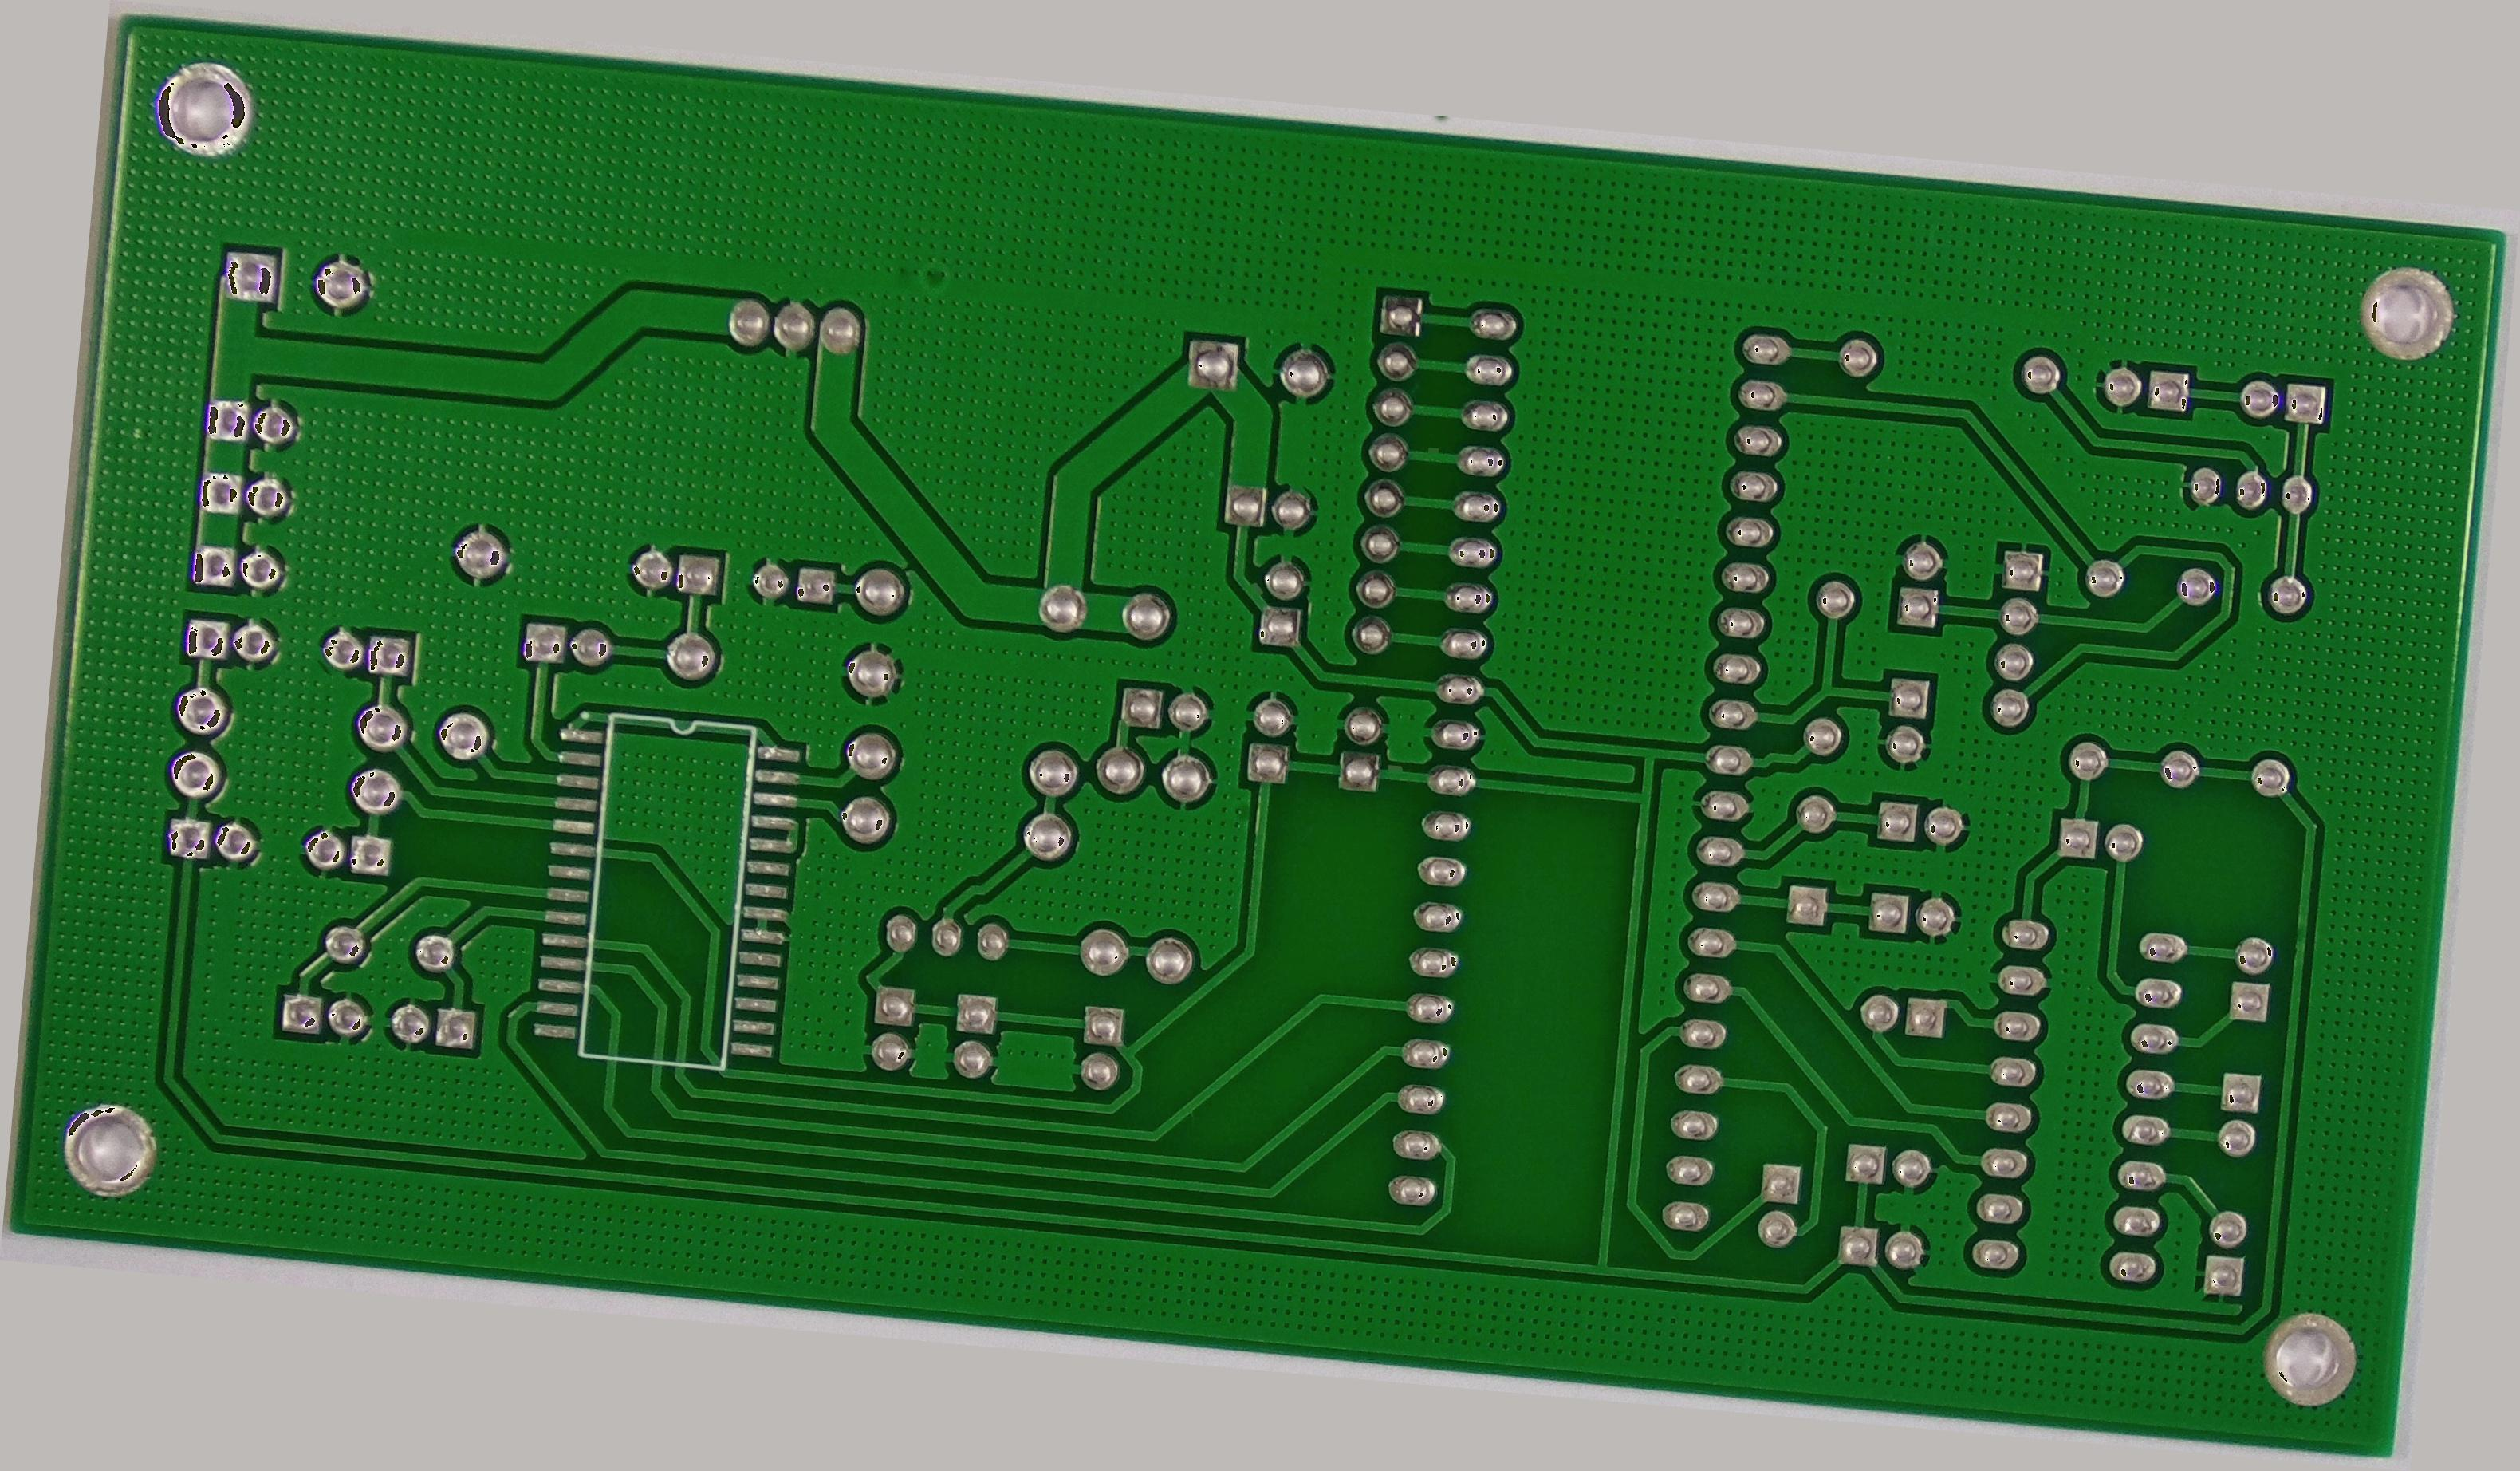spur: (1377, 753, 1412, 786), (1237, 571, 1270, 604), (1418, 434, 1451, 464)
